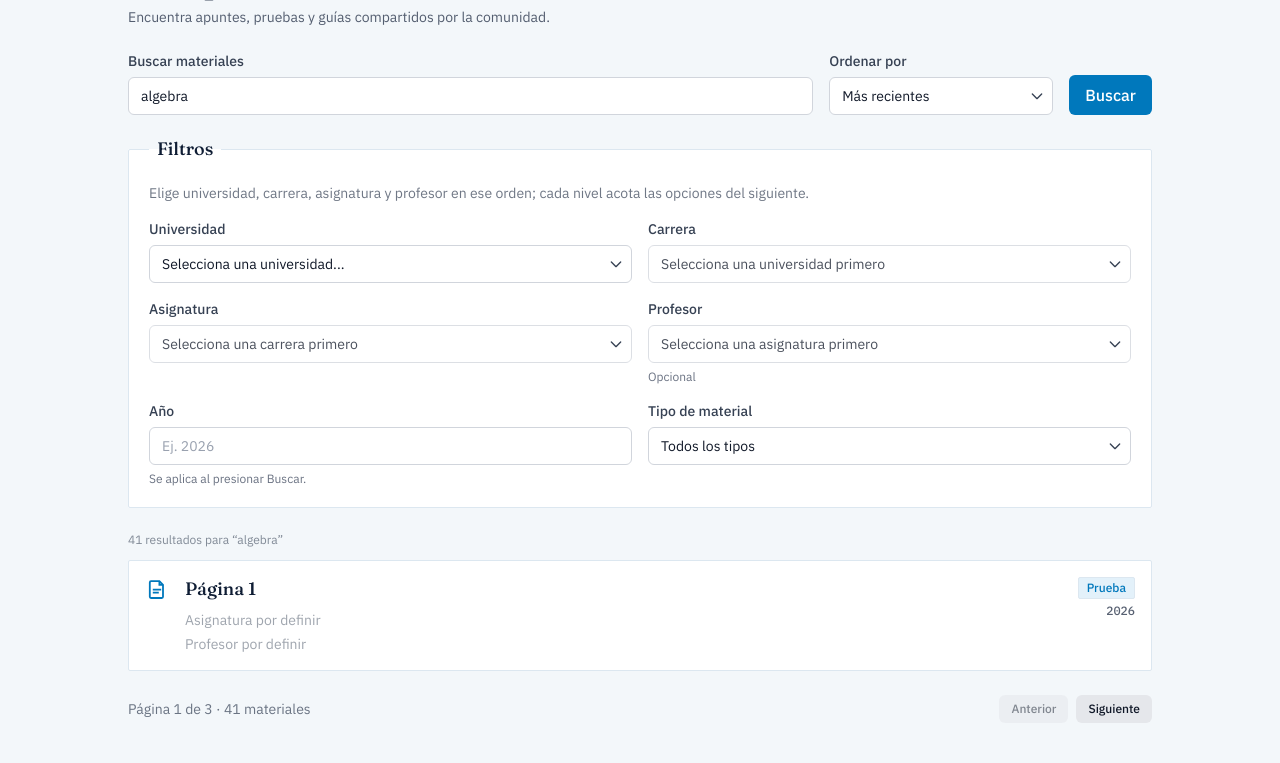
Test: SearchPage › paginación › recorre ida y vuelta toda la lista respetando ambos límites
This screenshot has width=1280, height=763.
(page scrolled)
Check: the heading "Página 1" is shown, box [185,577,256,600]
Click the button "Siguiente": (1114, 709) [1076,695,1152,723]
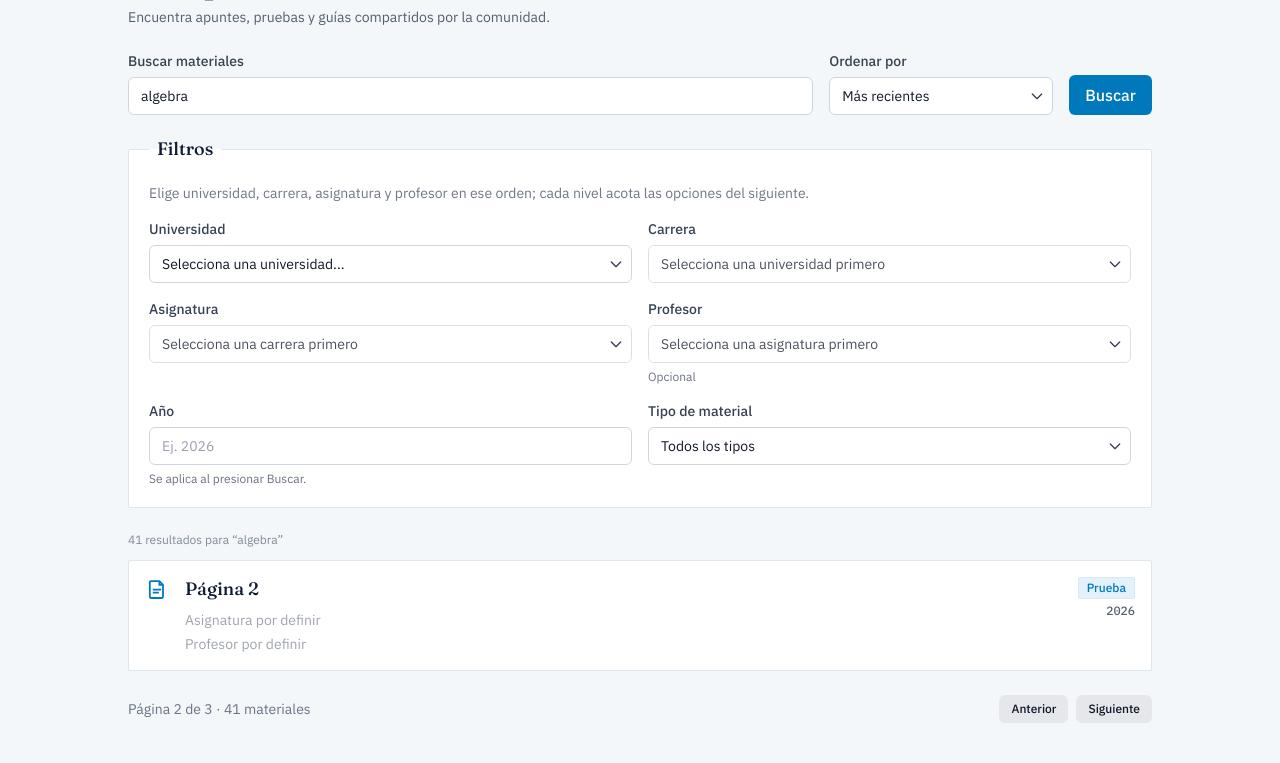
Check: the heading "Página 2" is shown, box [185,577,259,600]
Click the button "Siguiente": (1114, 709) [1076,695,1152,723]
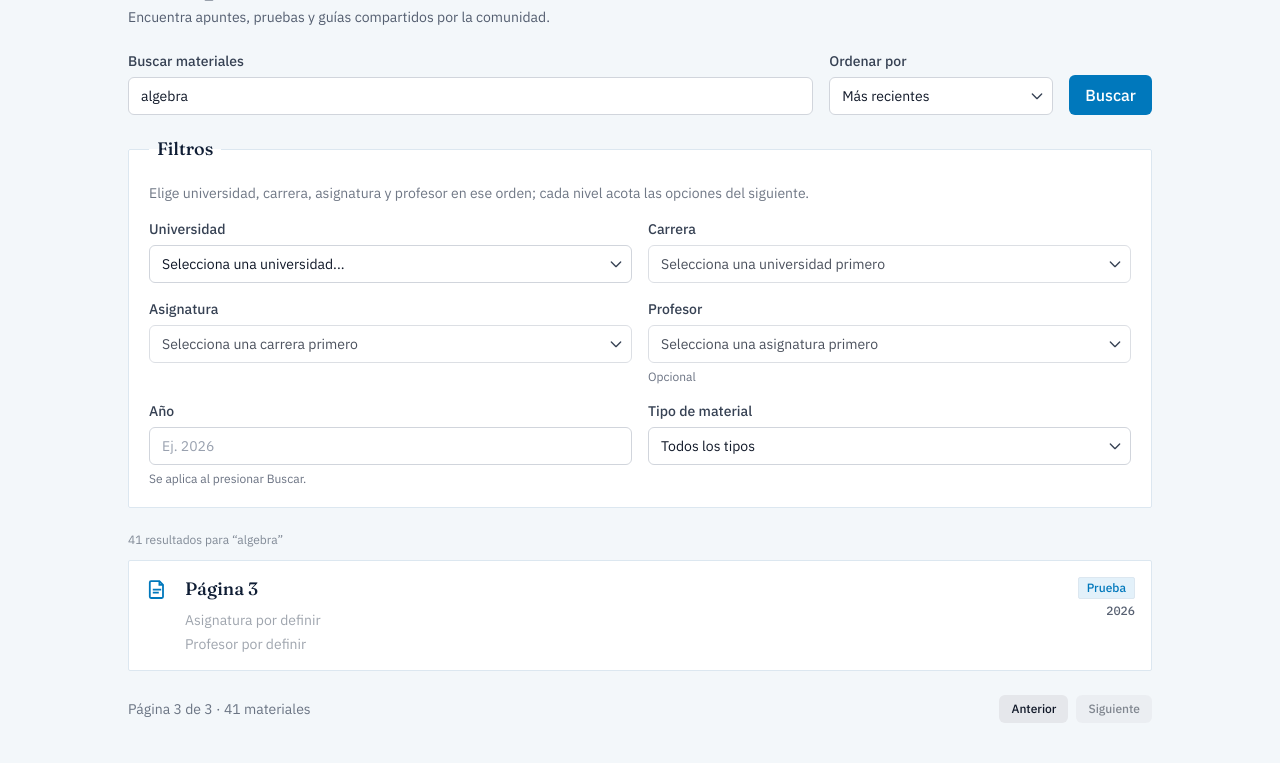
Check: the button "Anterior" is enabled
Check: the heading "Página 3" is shown, box [185,577,258,600]
Check: the button "Siguiente" is disabled, box [1076,695,1152,723]
Click the button "Anterior": (1034, 709) [1000,695,1068,723]
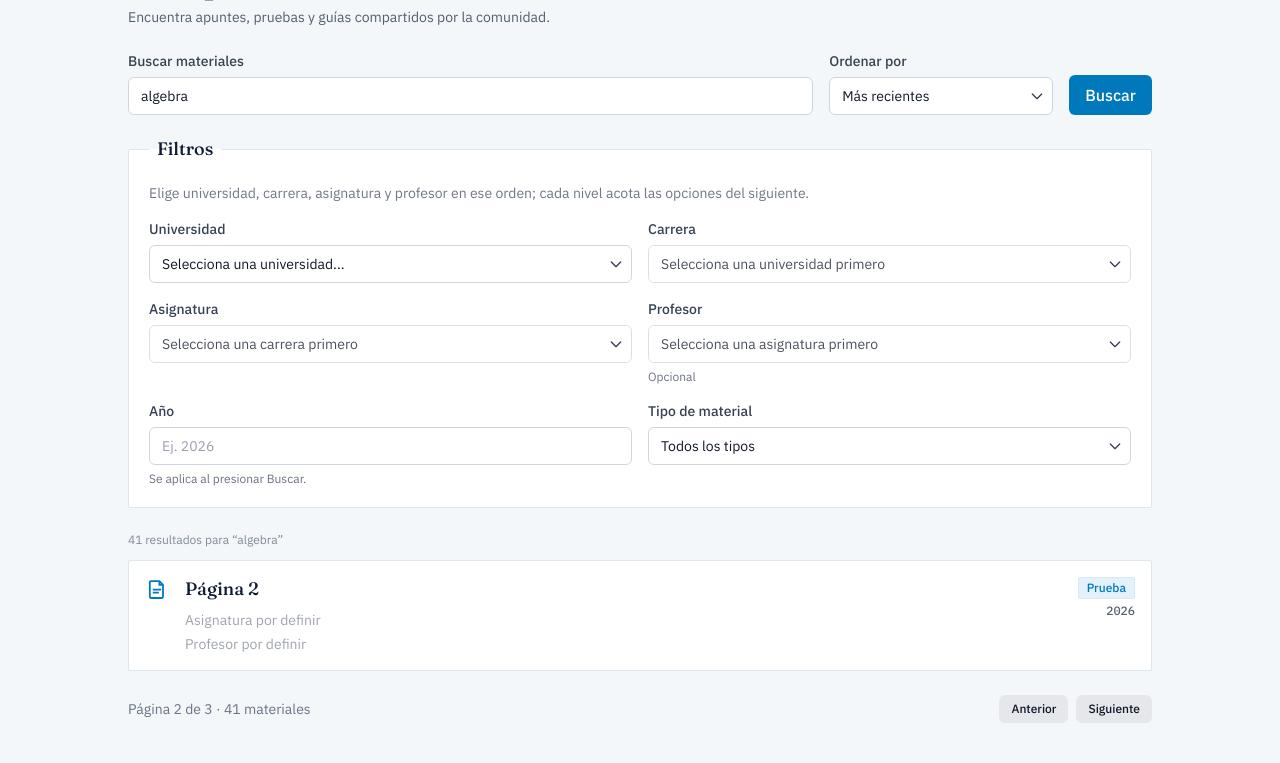
Check: the button "Anterior" is enabled
Check: the heading "Página 2" is shown, box [185,577,259,600]
Click the button "Anterior": (1034, 709) [1000,695,1068,723]
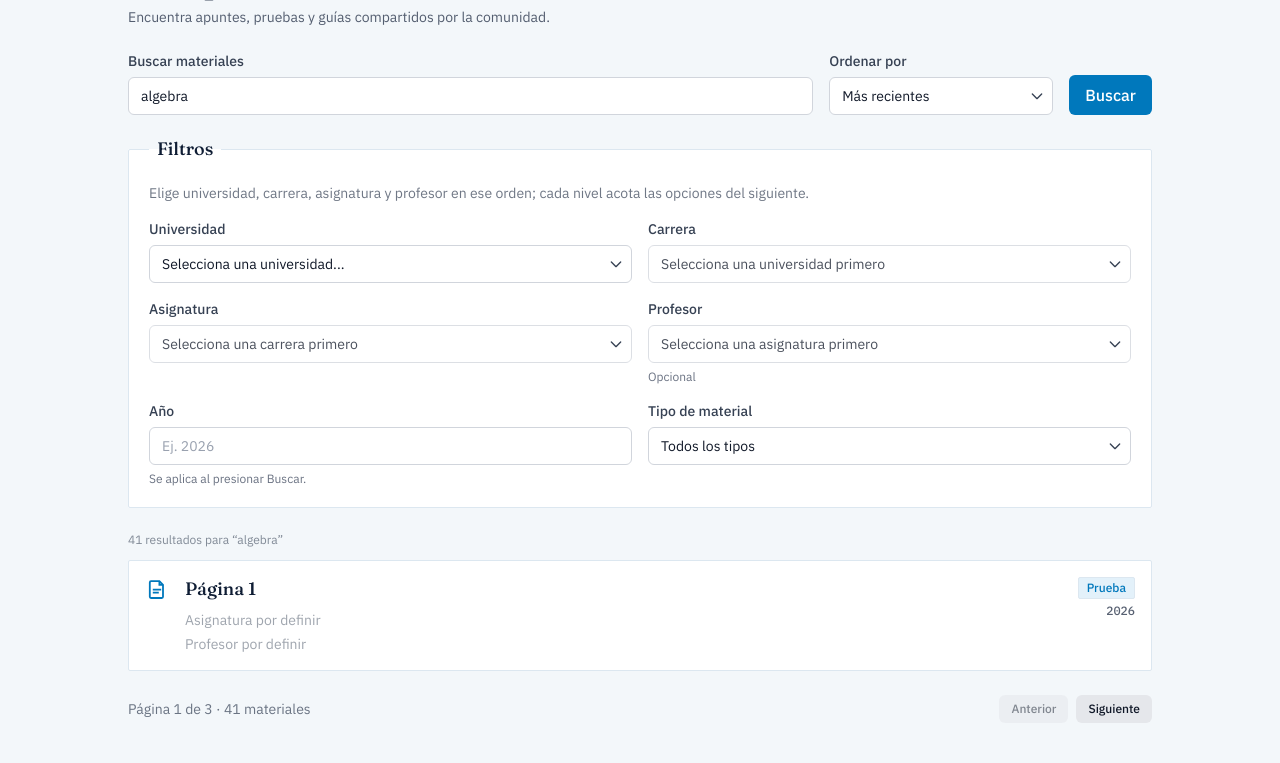
Check: the button "Siguiente" is enabled, box [1076,695,1152,723]
Check: the heading "Página 1" is shown, box [185,577,256,600]
Check: the button "Anterior" is disabled, box [1000,695,1068,723]
